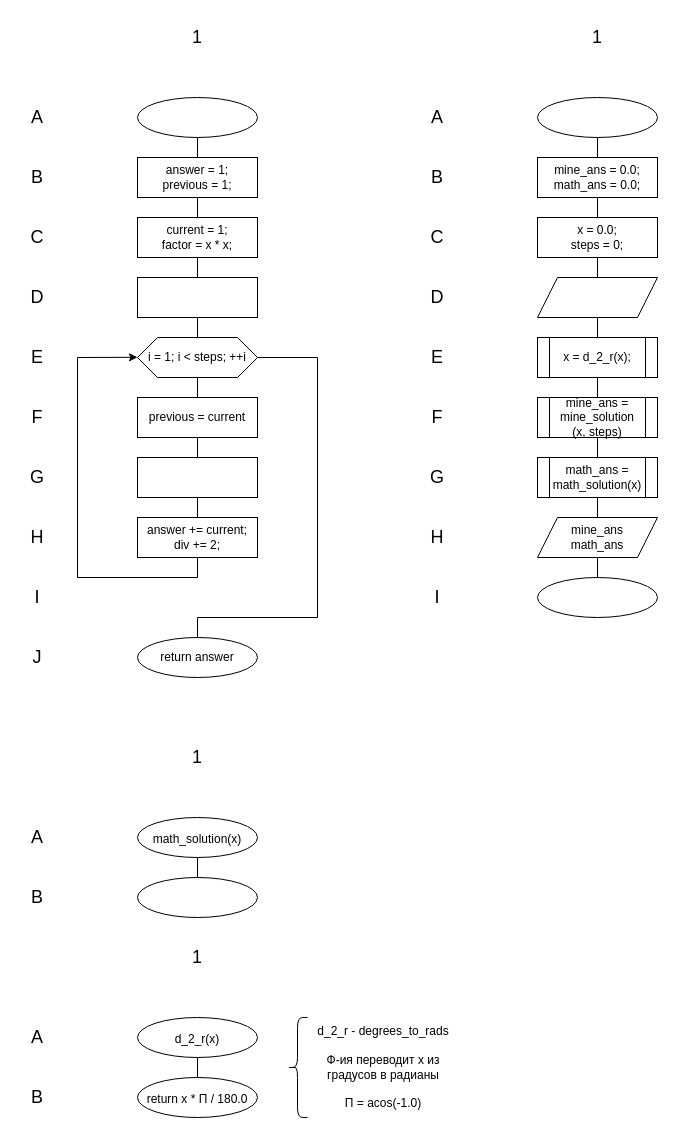
Image size: 675x1135. Some labels were removed from this diagram. Each missing label, with the centre of its shape:
current = (-1) * previous * factor / ((div + 1)*(div + 2)): (197,477)
div = 0;: (197,297)
mine solution (x, steps): (197,117)
return cos(x): (197,897)
ВВОД x, steps: (597,297)
КОНЕЦ: (597,597)
НАЧАЛО: (597,117)
